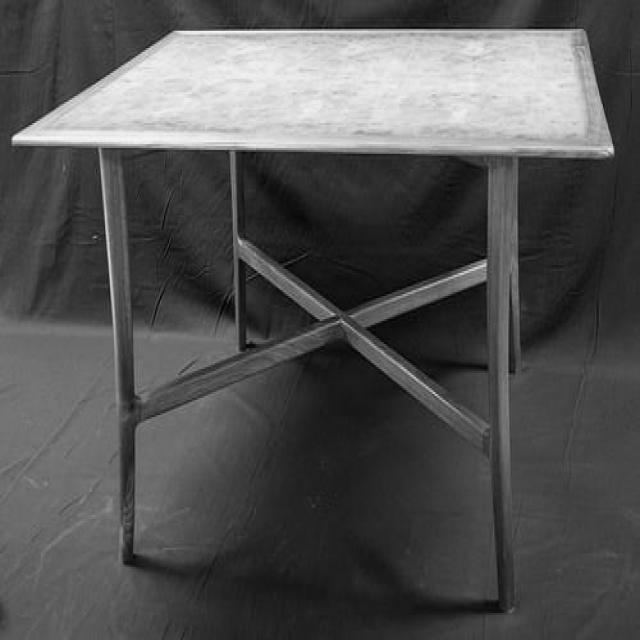table: (11, 29, 616, 613)
